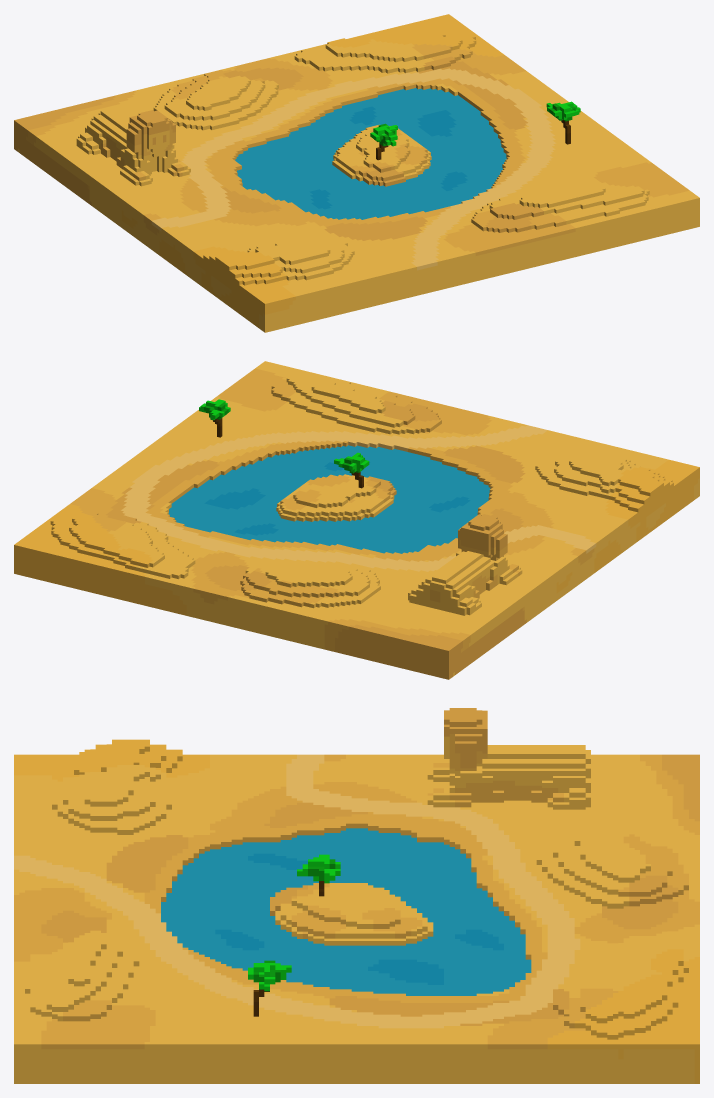
The model's file is Egypt-8.obj.
The picture shows the model from 3 angles, top to bottom: view 1: azimuth 30°, elevation 25°; view 2: azimuth 150°, elevation 25°; view 3: azimuth 270°, elevation 25°; orthographic projection. The views are drawn at different scales.
Bounding box in the file's own units: 12.6 × 2.3 × 12.6.
Materials: 1 (1 with a texture image).
